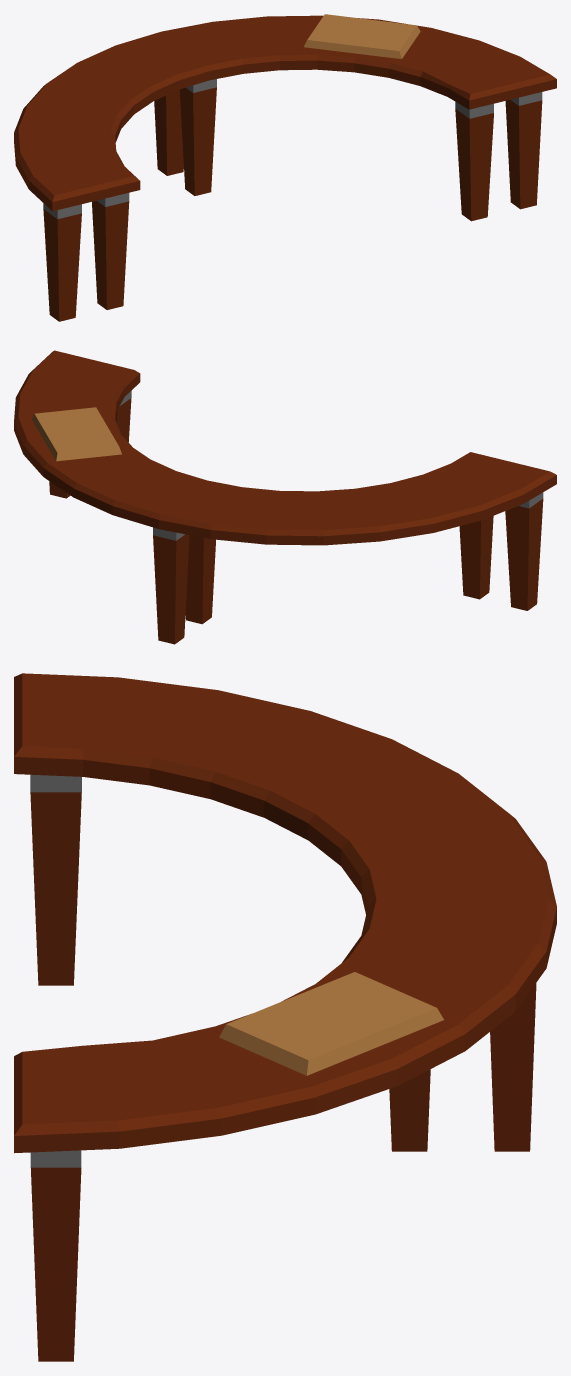
3 renders of one model, top to bottom at view 1: azimuth 30°, elevation 25°; view 2: azimuth 150°, elevation 25°; view 3: azimuth 270°, elevation 25°, orthographic. The views are drawn at different scales.
Parts seen in each view (by area): view 1: Tabletop.001, Legs.001, Plate.001, LegSocket.001; view 2: Tabletop.001, Legs.001, Plate.001, LegSocket.001; view 3: Tabletop.001, Legs.001, Plate.001, LegSocket.001.
Boxes of the visible parts, <box> form: Tabletop.001: <box>14,15,556,211</box>; Legs.001: <box>43,87,542,321</box>; Plate.001: <box>304,14,420,58</box>; LegSocket.001: <box>43,79,542,219</box>; Tabletop.001: <box>14,350,556,545</box>; Legs.001: <box>49,398,543,644</box>; Plate.001: <box>31,407,121,461</box>; LegSocket.001: <box>119,391,543,540</box>; Tabletop.001: <box>14,673,556,1153</box>; Legs.001: <box>30,792,536,1361</box>; Plate.001: <box>219,972,443,1075</box>; LegSocket.001: <box>30,774,81,1167</box>.
Bounding box in the file's own units: 307 × 80.46 × 153.
